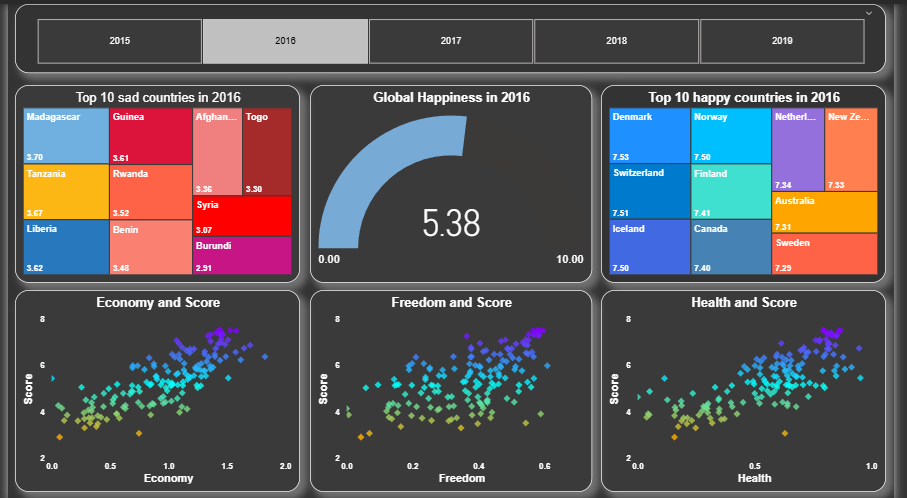

The page's visual inventory and layout, read from the dashboard file:
{"tool":"powerbi","page":{"name":"Page 1","canvas":[1280,720],"ordinal":0},"visuals":[{"type":"slicer","fields":{"Values":["Happiness_Data.Year"]},"box":[10.1,0,1259.3,99.8],"z":0},{"type":"gauge","fields":{"Y":["Avg(Happiness_Data.Score)"]},"box":[436.6,117.1,407.7,286.3],"z":1000},{"type":"treemap","fields":{"Group":["Happiness_Data.Country"],"Values":["Avg(Happiness_Data.Score)"]},"box":[857.3,117.1,412,286.3],"z":2000},{"type":"treemap","fields":{"Group":["Happiness_Data.Country"],"Values":["Avg(Happiness_Data.Score)"]},"box":[10.1,117.1,412,286.3],"z":3000},{"type":"scatterChart","fields":{"Y":["Happiness_Data.Score"],"X":["Happiness_Data.Health"]},"box":[857.3,413.5,412,292],"z":4000},{"type":"scatterChart","fields":{"Y":["Happiness_Data.Score"],"X":["Happiness_Data.Freedom"]},"box":[436.6,413.5,407.7,292],"z":5000},{"type":"scatterChart","fields":{"X":["Happiness_Data.Economy"],"Y":["Happiness_Data.Score"]},"box":[10.1,413.5,412,292],"z":6000}]}

Visuals, with their boxes in screenshot pixels (x1, y1, x2, y2), scaled from the page's 1280x720 canvas onto the 907x498 screenshot:
slicer - Happiness_Data.Year: select_region(7, 0, 899, 69)
gauge - Avg(Happiness_Data.Score): select_region(309, 81, 598, 279)
treemap - Happiness_Data.Country x Avg(Happiness_Data.Score): select_region(607, 81, 899, 279)
treemap - Happiness_Data.Country x Avg(Happiness_Data.Score): select_region(7, 81, 299, 279)
scatterChart - Happiness_Data.Score x Happiness_Data.Health: select_region(607, 286, 899, 488)
scatterChart - Happiness_Data.Score x Happiness_Data.Freedom: select_region(309, 286, 598, 488)
scatterChart - Happiness_Data.Economy x Happiness_Data.Score: select_region(7, 286, 299, 488)
